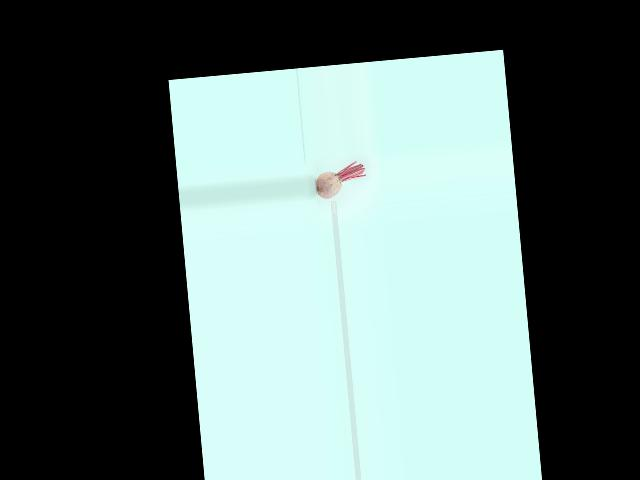beet: (314, 160, 367, 200)
